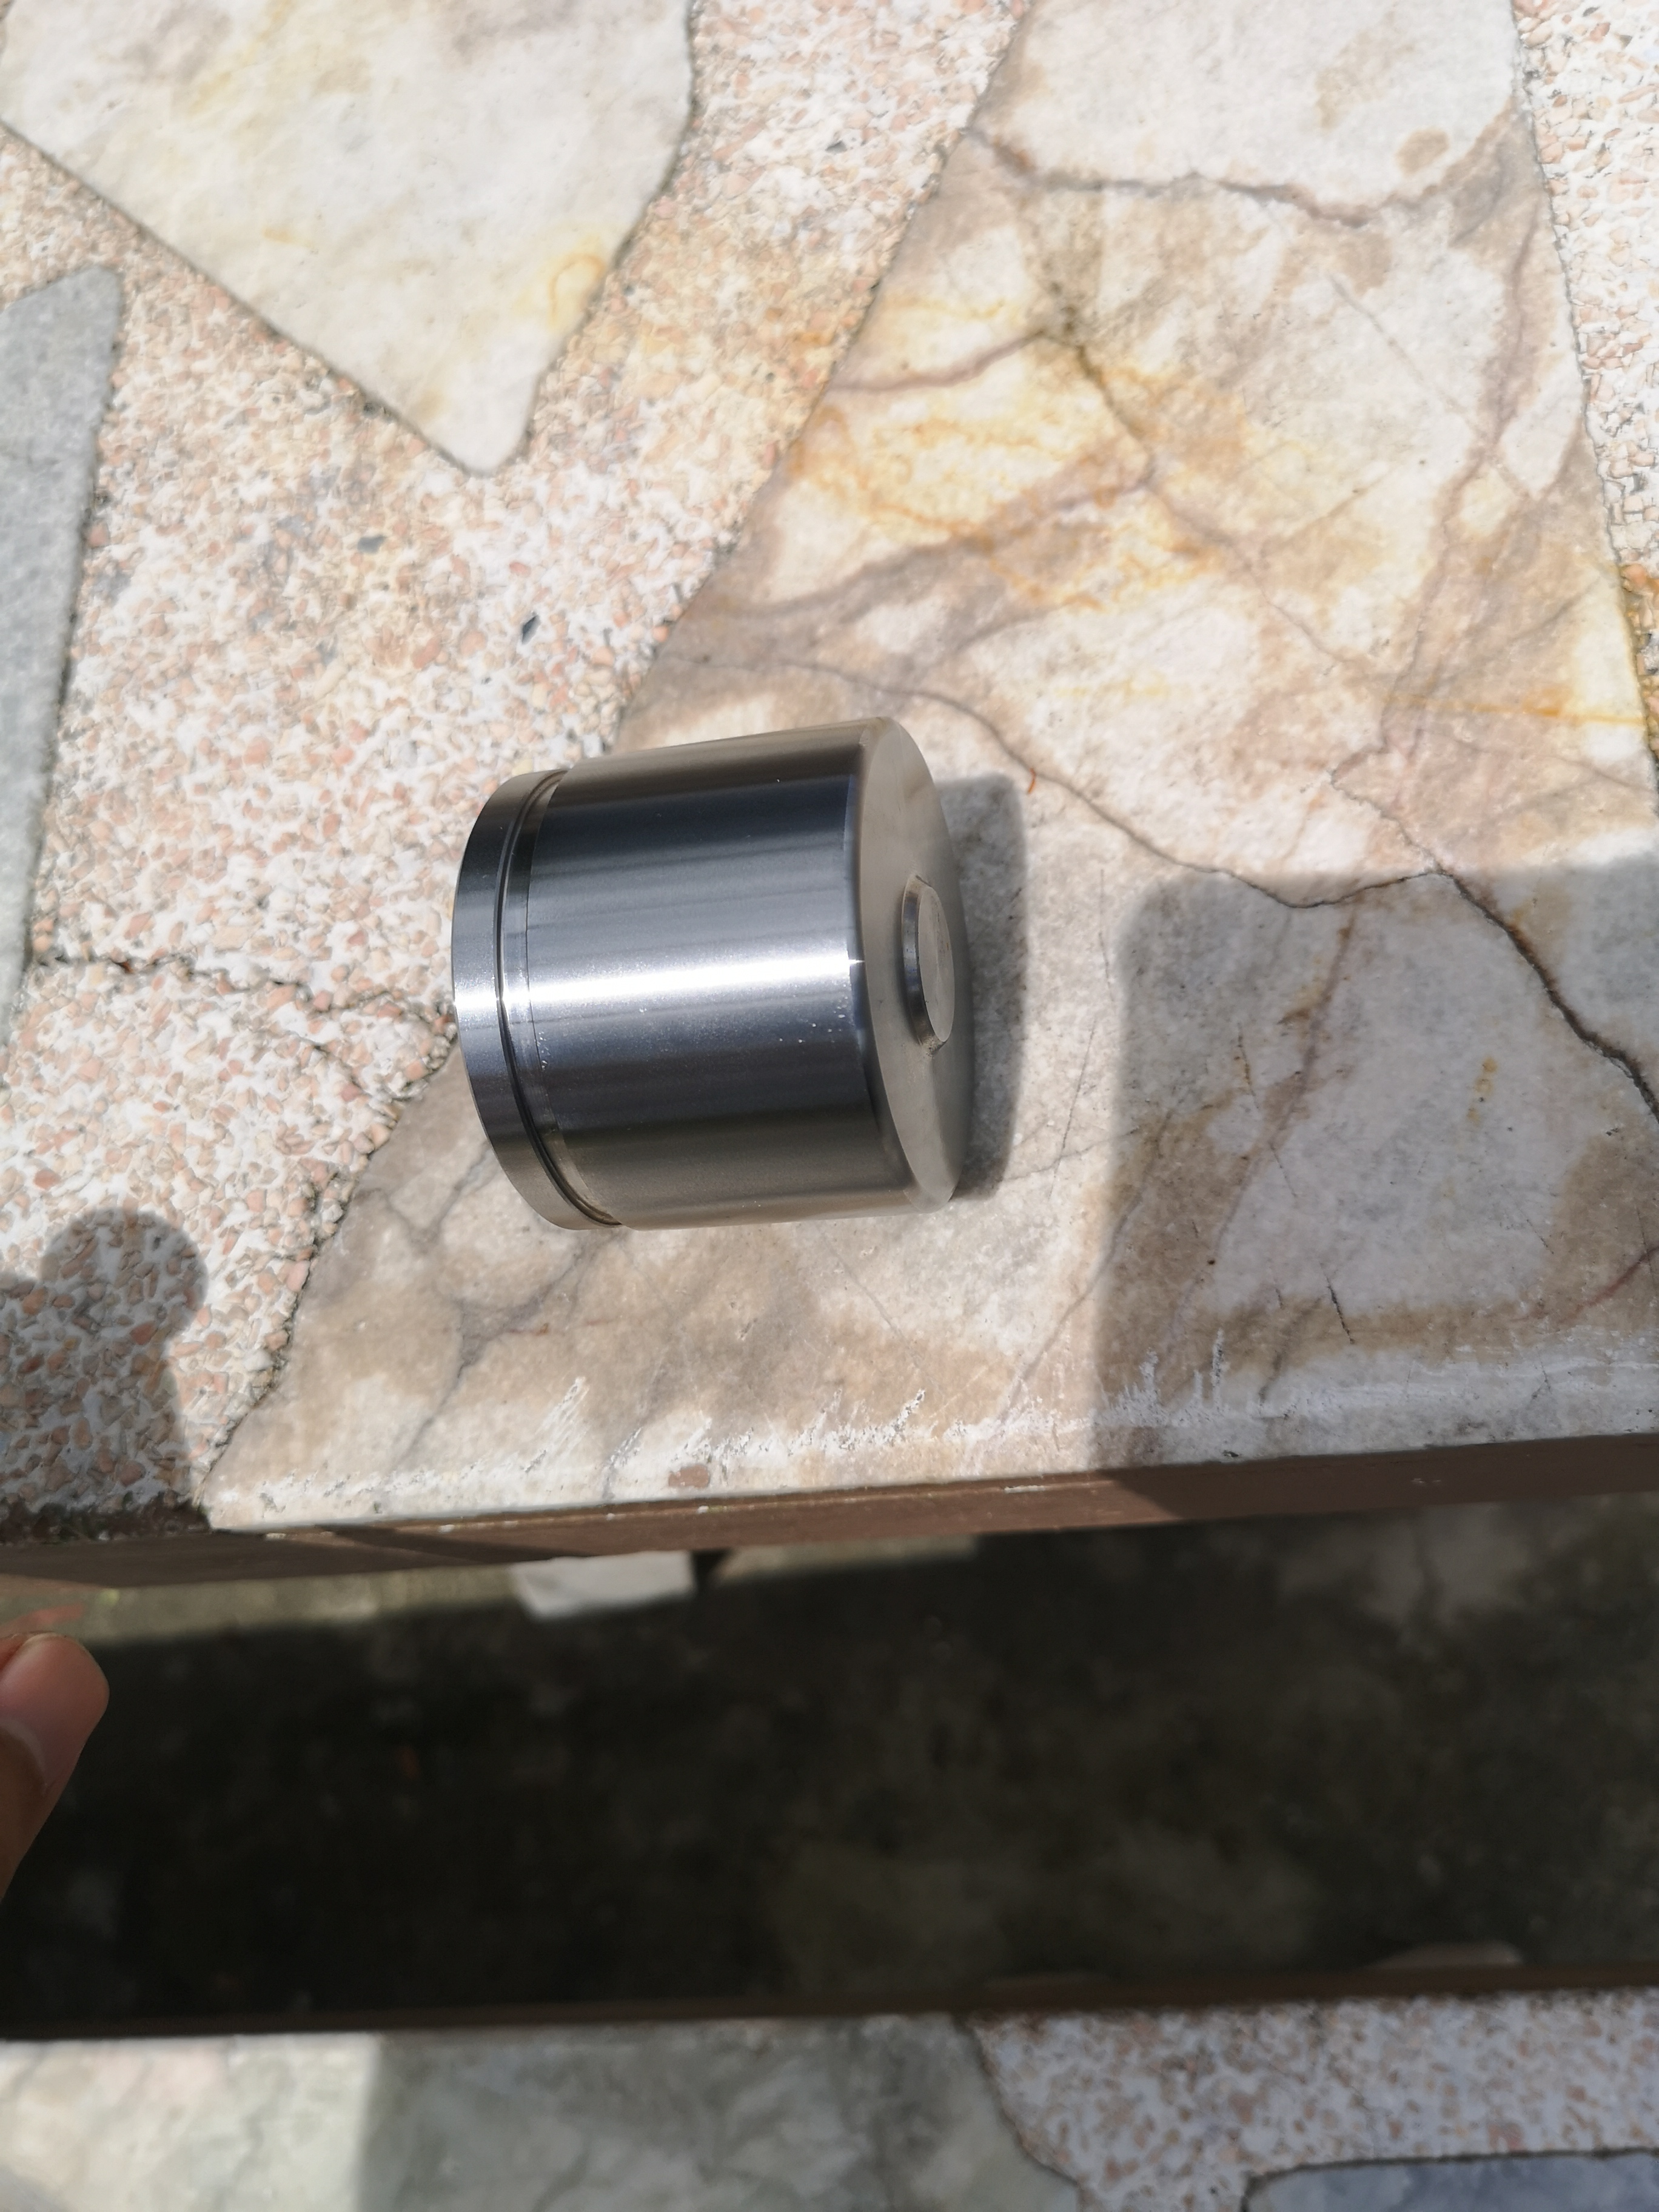ลูกสูบดิสเบรค: (418, 721, 1006, 1308)
